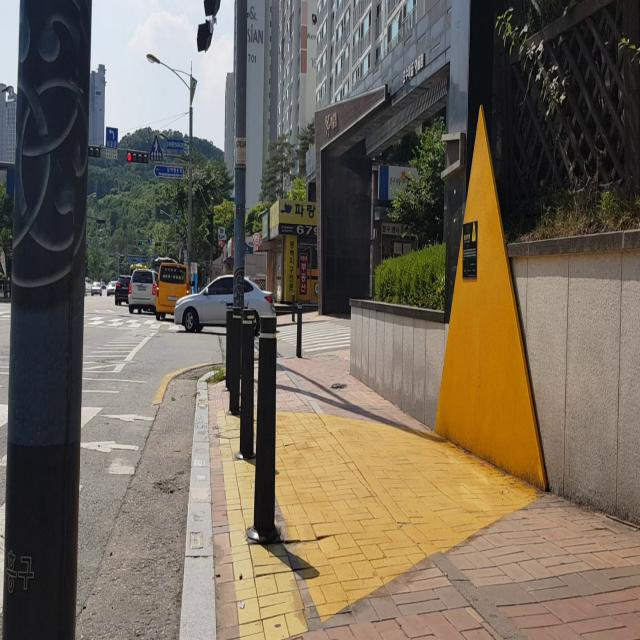횡단보도: (276, 322, 351, 352), (84, 315, 177, 335)
